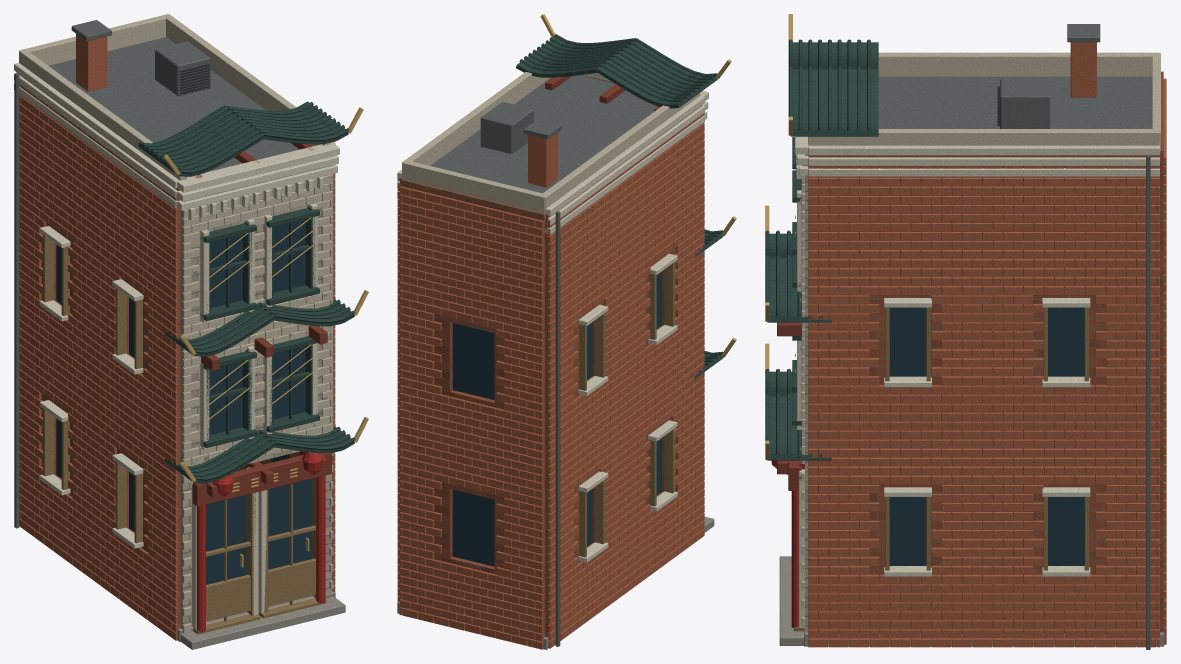
The model's file is CHINA12_lod0.glb.
3 renders of one model, left to right at view 1: azimuth 30°, elevation 25°; view 2: azimuth 150°, elevation 25°; view 3: azimuth 270°, elevation 25°, orthographic. The views are drawn at different scales.
Parts seen in each view (by area): view 1: CHINA12_LOD0; view 2: CHINA12_LOD0; view 3: CHINA12_LOD0.
Part boxes in pixels (x1=…): CHINA12_LOD0: x1=14, y1=14, x2=368, y2=649; CHINA12_LOD0: x1=397, y1=14, x2=736, y2=649; CHINA12_LOD0: x1=765, y1=14, x2=1166, y2=649.
Bounding box in the file's own units: 4.25 × 10.45 × 6.85.
19 materials, 16 textured.
